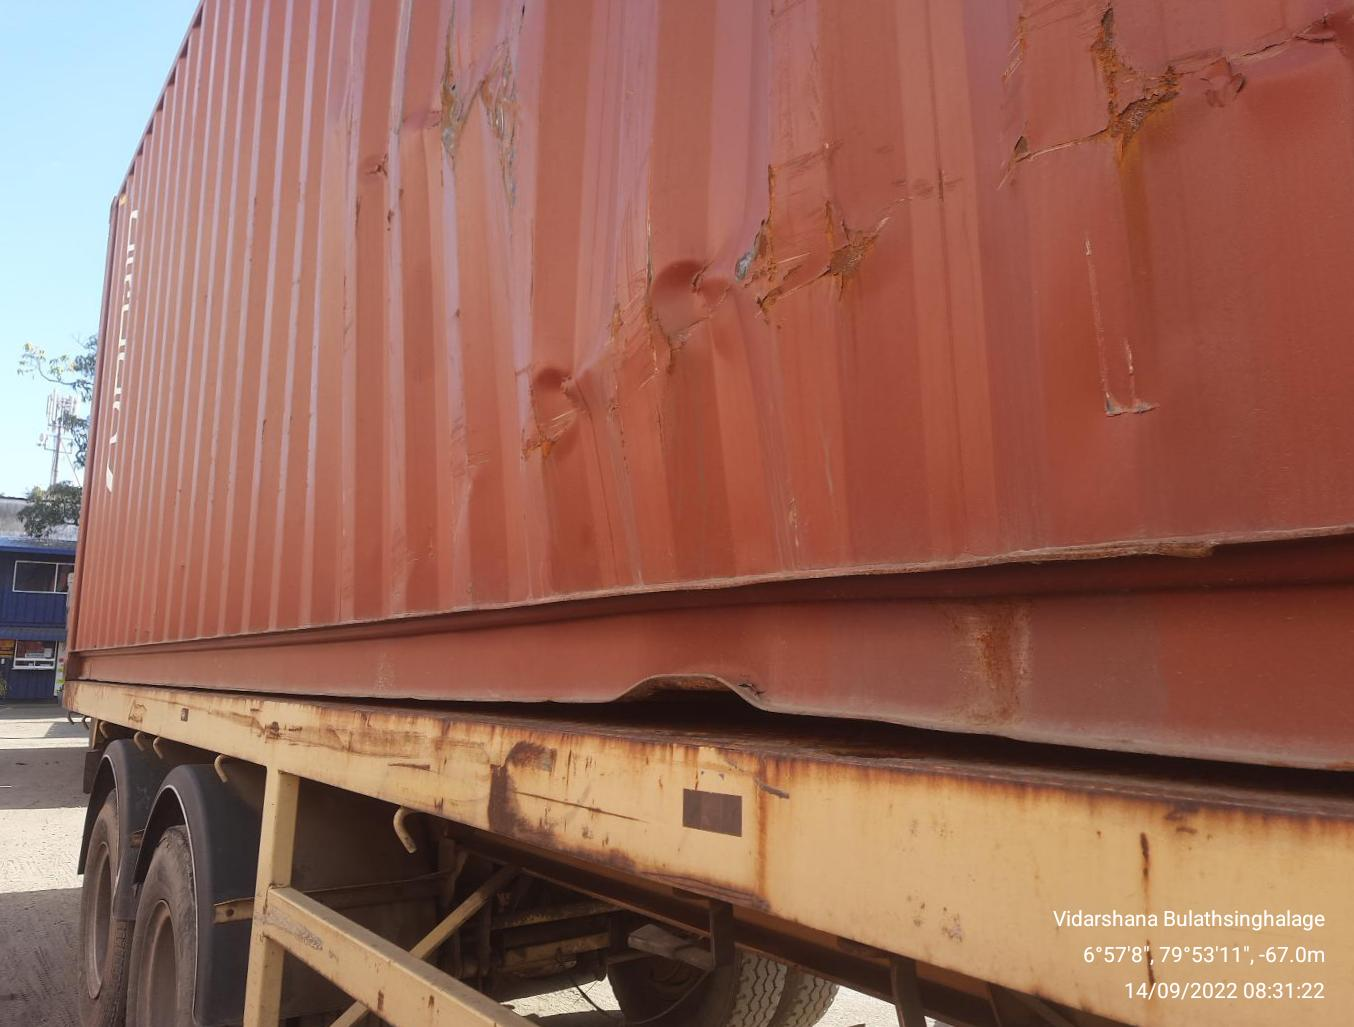moderate: (418, 28, 1246, 509)
